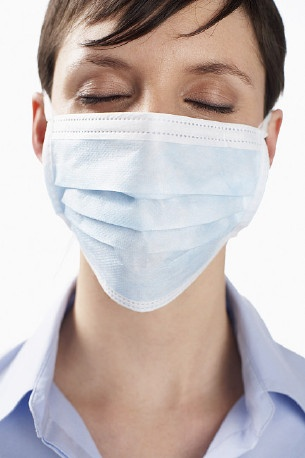Mask: (32, 54, 282, 305)
